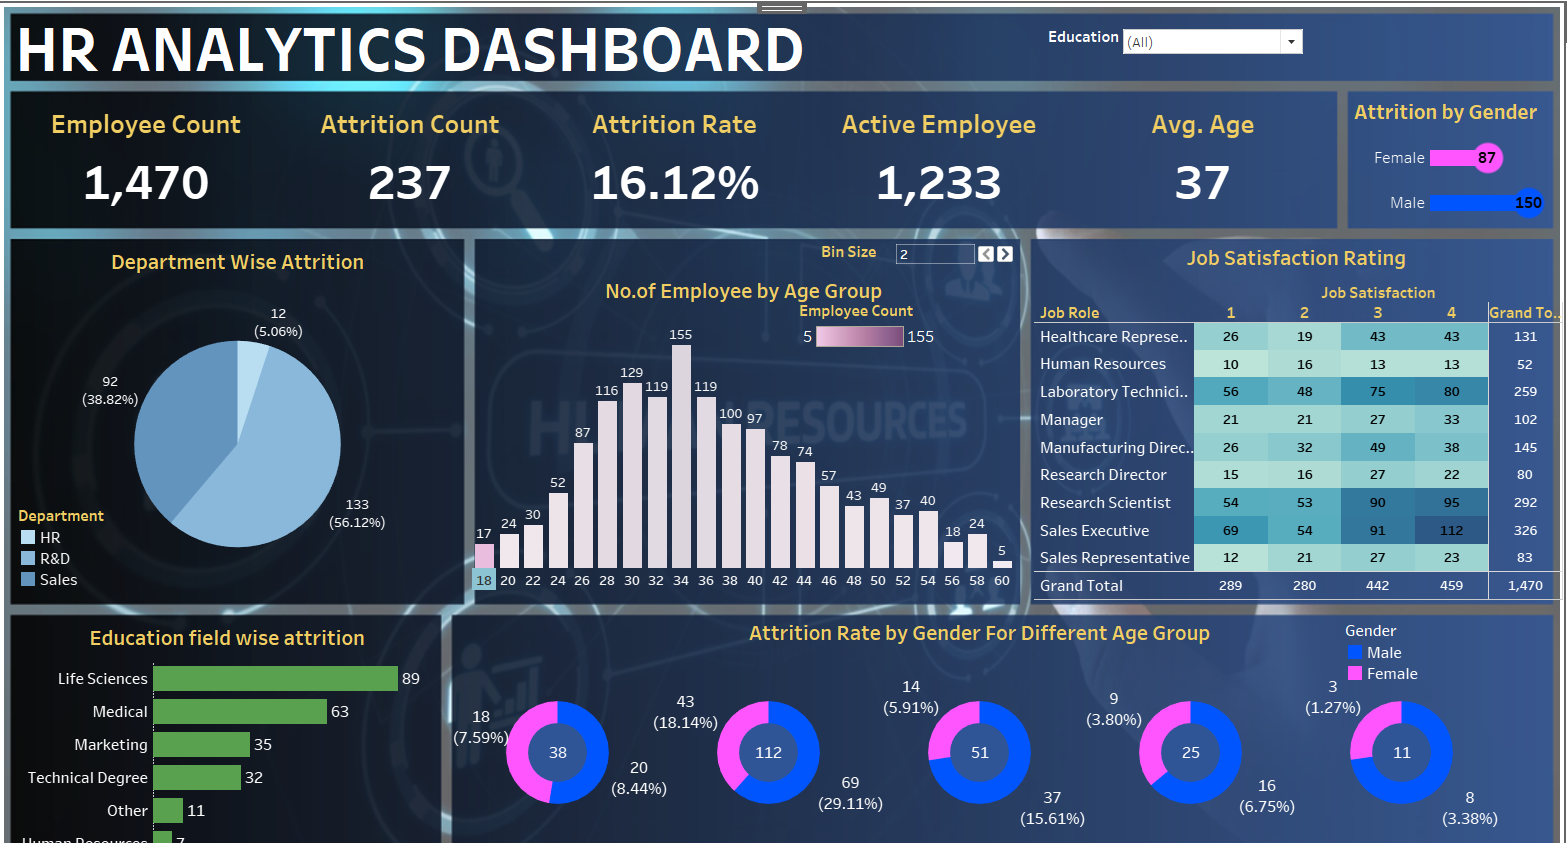

This screenshot's page, from the dashboard's own definition file:
{"tool":"tableau","page":{"name":"HR ANALYTICS DASHBOARD","canvas":[1580,900],"ordinal":0},"visuals":[{"type":"image","param":"C:/Users/Lenovo/Downloads/HR background.pptx.png","box":[8,8,1564,884]},{"type":"text","box":[20,19,983,64]},{"type":"filter","title":"Department Wise Attrition","param":"[federated.0nscj79026ms5g1coc0kd1n18fgf].[none:Education:nk]","box":[1056,31,258,36]},{"type":"worksheet","title":"Attrition by Gender","mark":"Automatic","rows":["Gender"],"cols":["Calculation_1028228135502086144","Calculation_1028228135502086144"],"box":[1358,98,200,132]},{"type":"worksheet","title":"KPI","mark":"Automatic","box":[22,105,1321,120]},{"type":"worksheet","title":"Job Satisfaction Rating ","mark":"Square","rows":["Job Role"],"cols":["Job Satisfaction"],"box":[1042,244,529,361]},{"type":"parameter","param":"[Parameters].[Parameter 1]","box":[829,246,195,31]},{"type":"worksheet","title":"Department Wise Attrition","mark":"Pie","box":[21,248,449,359]},{"type":"worksheet","title":"No.of Employee by Age Group","mark":"Automatic","rows":["Employee Count"],"cols":["Age (bin)"],"box":[480,277,543,318]},{"type":"legend","title":"No.of Employee by Age Group","param":"[federated.0nscj79026ms5g1coc0kd1n18fgf].[sum:Employee Count:qk]","box":[807,305,140,49]},{"type":"legend","title":"Department Wise Attrition","param":"[federated.0nscj79026ms5g1coc0kd1n18fgf].[none:Department:nk]","box":[26,510,140,85]},{"type":"worksheet","title":"Attrition Rate by Gender For Different Age Group","mark":"Pie","rows":["Calculation_159877832474906627","Calculation_159877832474906627"],"cols":["CF_age band"],"box":[460,619,1055,259]},{"type":"worksheet","title":"  Education field wise attrition ","mark":"Automatic","rows":["Education Field"],"cols":["Calculation_1028228135502086144"],"box":[21,624,424,277]},{"type":"legend","title":"Attrition Rate by Gender For Different Age Group","param":"[federated.0nscj79026ms5g1coc0kd1n18fgf].[none:Gender:nk]","box":[1353,625,140,64]}]}

Visuals, with their boxes on the page's 1580x900 design canvas (x1, y1, x2, y2). These are canvas units, not pixel positions in the 1567x843 screenshot, which may show the page scaled, cropped or inside an application window:
image: 8,8,1572,892
text: 20,19,1003,83
"Department Wise Attrition" filter: 1056,31,1314,67
"Attrition by Gender" worksheet: 1358,98,1558,230
"KPI" worksheet: 22,105,1343,225
"Job Satisfaction Rating " worksheet (Square marks): 1042,244,1571,605
parameter: 829,246,1024,277
"Department Wise Attrition" worksheet (Pie marks): 21,248,470,607
"No.of Employee by Age Group" worksheet: 480,277,1023,595
"No.of Employee by Age Group" legend: 807,305,947,354
"Department Wise Attrition" legend: 26,510,166,595
"Attrition Rate by Gender For Different Age Group" worksheet (Pie marks): 460,619,1515,878
"  Education field wise attrition " worksheet: 21,624,445,901
"Attrition Rate by Gender For Different Age Group" legend: 1353,625,1493,689
